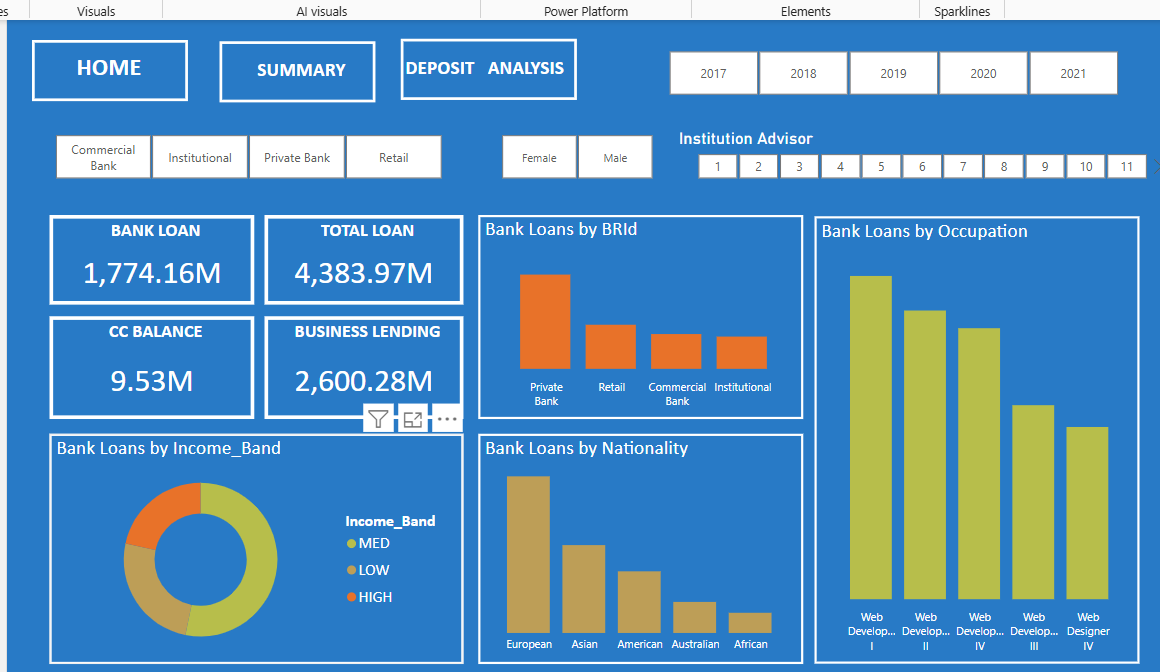

Layout of this report page (visuals, bound fields, positions):
{"tool":"powerbi","page":{"name":"Loan analysis","canvas":[1280,720],"ordinal":1},"visuals":[{"type":"textbox","box":[45.2,30.2,133.1,49.4],"z":0,"group":"g3"},{"type":"card","title":"BANK LOAN","fields":{"Values":["Sum(Banking.Bank Loans)"]},"box":[46.7,214.1,225,98.8],"z":0},{"type":"actionButton","box":[27.4,22,171.5,67.2],"z":1000,"group":"g3"},{"type":"card","title":"BUSINESS LENDING","fields":{"Values":["Sum(Banking.Business Lending)"]},"box":[282.7,325.2,218.2,112.5],"z":1000},{"type":"card","title":"TOTAL LOAN","fields":{"Values":["Banking.Total_Loan"]},"box":[282.7,214.1,218.2,98.8],"z":2000},{"type":"card","title":"CC BALANCE","fields":{"Values":["Sum(Banking.Credit Card Balance)"]},"box":[46.7,325.2,225,112.5],"z":3000},{"type":"slicer","fields":{"Values":["DATEMASTER.YEAR"]},"box":[701.2,27.4,542,61.7],"z":4000},{"type":"donutChart","title":"Bank Loans by Income_Band","fields":{"Y":["Sum(Banking.Bank Loans)"],"Category":["Banking.Income_Band"]},"box":[46.7,454.2,454.2,252.5],"z":5000},{"type":"columnChart","title":"Bank Loans by BRId","fields":{"Y":["Sum(Banking.Bank Loans)"],"Category":["Banking.BRId"]},"box":[517.3,214.1,356.8,223.7],"z":6000},{"type":"actionButton","box":[233.3,23.3,171.5,67.2],"z":7000,"group":"g2"},{"type":"columnChart","title":"Bank Loans by Nationality","fields":{"Y":["Sum(Banking.Bank Loans)"],"Category":["Banking.Nationality"]},"box":[517.3,454.2,356.8,252.5],"z":7000},{"type":"actionButton","box":[432.2,20.6,193.5,67.2],"z":8000,"group":"g1"},{"type":"columnChart","title":"Bank Loans by Occupation","fields":{"Y":["Sum(Banking.Bank Loans)"],"Category":["Banking.Occupation"]},"box":[886.5,215.4,356.8,491.3],"z":8000},{"type":"textbox","box":[432.2,34.3,193.5,38.4],"z":9000,"group":"g1"},{"type":"slicer","fields":{"Values":["Banking.GenderId"]},"box":[517.3,119.4,215.4,61.7],"z":9000},{"type":"textbox","box":[245.6,37,146.8,38.4],"z":10000,"group":"g2"},{"type":"slicer","fields":{"Values":["Banking.BRId"]},"box":[27.4,119.4,473.4,61.7],"z":10000},{"type":"slicer","title":"Institution Advisor","fields":{"Values":["Banking.IAId"]},"box":[732.8,119.4,542,61.7],"z":11000},{"type":"group","id":"g1","title":"Group 1","box":[432.2,20.6,193.5,67.2],"z":12000},{"type":"group","id":"g2","title":"Group 2","box":[233.3,23.3,171.5,67.2],"z":13000},{"type":"group","id":"g3","title":"Group 3","box":[27.4,22,171.5,67.2],"z":14000}]}

Visuals, with their boxes on the page's 1280x720 design canvas (x1, y1, x2, y2). These are canvas units, not pixel positions in the 1160x672 screenshot, which may show the page scaled, cropped or inside an application window:
textbox: 45 30 178 80
"BANK LOAN" card: 47 214 272 313
actionButton: 27 22 199 89
"BUSINESS LENDING" card: 283 325 501 438
"TOTAL LOAN" card: 283 214 501 313
"CC BALANCE" card: 47 325 272 438
slicer - DATEMASTER.YEAR: 701 27 1243 89
"Bank Loans by Income_Band" donutChart: 47 454 501 707
"Bank Loans by BRId" columnChart: 517 214 874 438
actionButton: 233 23 405 90
"Bank Loans by Nationality" columnChart: 517 454 874 707
actionButton: 432 21 626 88
"Bank Loans by Occupation" columnChart: 886 215 1243 707
textbox: 432 34 626 73
slicer - Banking.GenderId: 517 119 733 181
textbox: 246 37 392 75
slicer - Banking.BRId: 27 119 501 181
"Institution Advisor" slicer: 733 119 1275 181
"Group 1" group: 432 21 626 88
"Group 2" group: 233 23 405 90
"Group 3" group: 27 22 199 89
